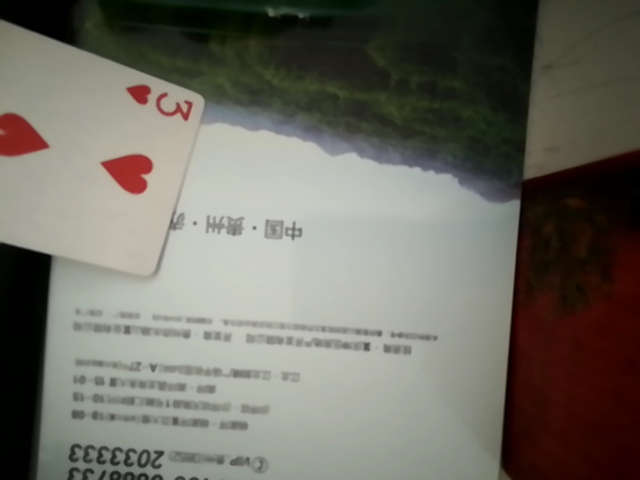hx 3: (0, 7, 213, 298)
